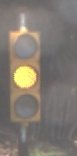Yellow: (1, 14, 45, 142)
